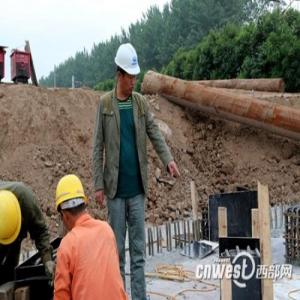white: (115, 43, 143, 96)
yellow: (55, 170, 90, 233), (2, 192, 23, 245)
